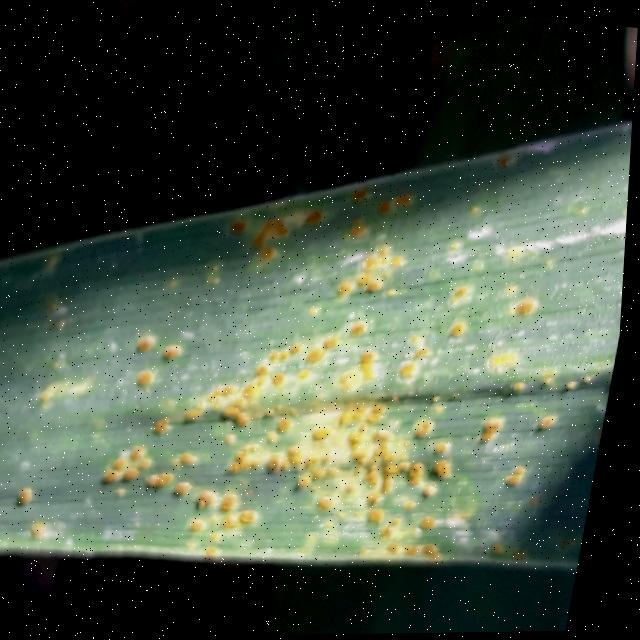orang_rust: (0, 17, 639, 640)
